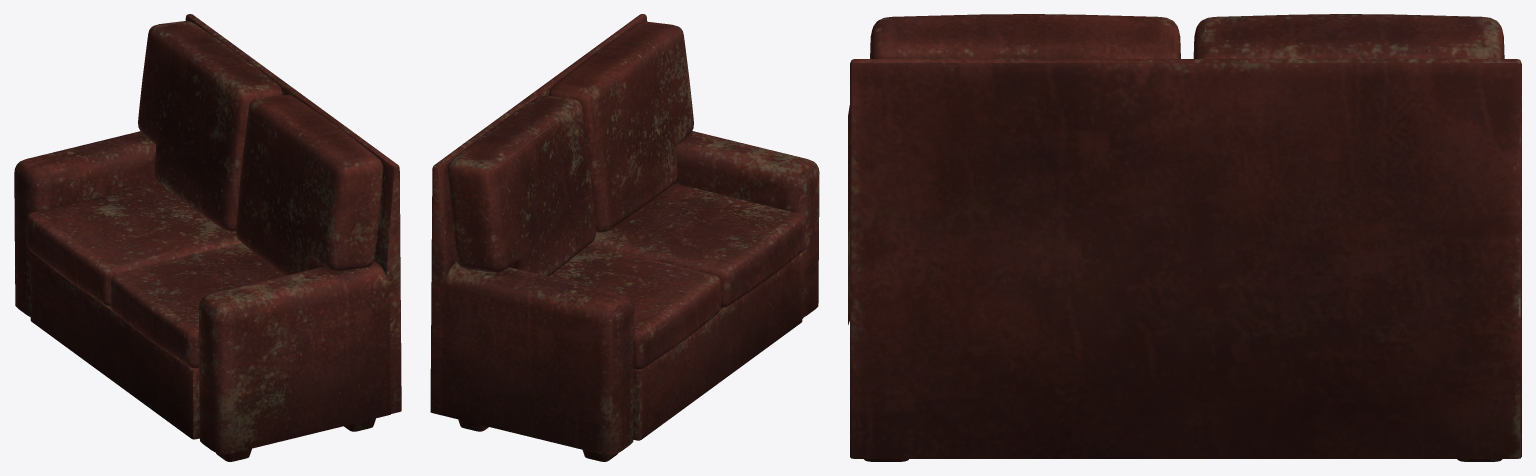
Rendered from SM_Misc_LP_polySurface21.fbx.
The picture shows the model from 3 angles, left to right: view 1: azimuth 30°, elevation 25°; view 2: azimuth 150°, elevation 25°; view 3: azimuth 270°, elevation 25°; orthographic projection. The views are drawn at different scales.
Visible parts, largest first — view 1: SM_Misc_LP_polySurface21_LOD0; view 2: SM_Misc_LP_polySurface21_LOD0; view 3: SM_Misc_LP_polySurface21_LOD0.
Part boxes in pixels (box(x1,y1,x2,y2)): SM_Misc_LP_polySurface21_LOD0: box(14, 14, 401, 461); SM_Misc_LP_polySurface21_LOD0: box(430, 14, 819, 461); SM_Misc_LP_polySurface21_LOD0: box(848, 14, 1521, 461).
Size of the model in its own units: 88.12 by 166 by 117.
Materials: 1 (1 with a texture image).
